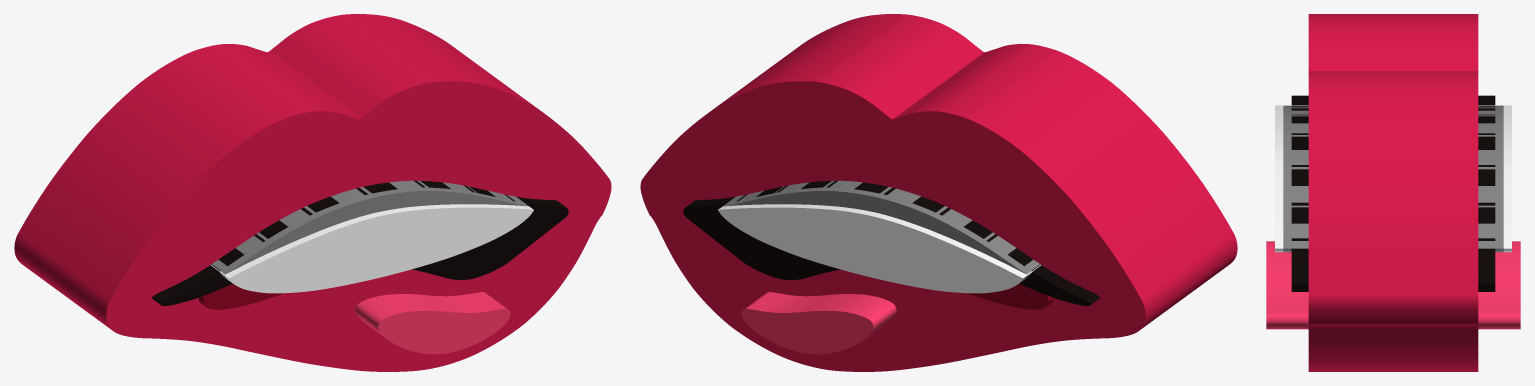
File: U+1FAE6.obj
3 views of the same model, side by side, from view 1: azimuth 30°, elevation 25°; view 2: azimuth 150°, elevation 25°; view 3: azimuth 270°, elevation 25° (orthographic). The views are drawn at different scales.
Parts seen in each view (by area): view 1: U+1FAE6_layer00_obj00, U+1FAE6_layer04_obj00, U+1FAE6_layer05_obj00, U+1FAE6_layer02_obj00, U+1FAE6_layer03_obj00, U+1FAE6_layer01_obj00; view 2: U+1FAE6_layer00_obj00, U+1FAE6_layer04_obj00, U+1FAE6_layer05_obj00, U+1FAE6_layer02_obj00, U+1FAE6_layer03_obj00, U+1FAE6_layer01_obj00; view 3: U+1FAE6_layer00_obj00, U+1FAE6_layer03_obj00, U+1FAE6_layer05_obj00, U+1FAE6_layer02_obj00, U+1FAE6_layer04_obj00.
Boxes of the visible parts, x1,y1,x2,y2 form: U+1FAE6_layer00_obj00: (14, 14, 611, 371); U+1FAE6_layer04_obj00: (211, 204, 533, 293); U+1FAE6_layer05_obj00: (355, 292, 510, 354); U+1FAE6_layer02_obj00: (152, 180, 568, 305); U+1FAE6_layer03_obj00: (212, 180, 528, 278); U+1FAE6_layer01_obj00: (198, 283, 284, 309); U+1FAE6_layer00_obj00: (640, 14, 1237, 371); U+1FAE6_layer04_obj00: (718, 204, 1040, 293); U+1FAE6_layer05_obj00: (741, 292, 896, 354); U+1FAE6_layer02_obj00: (683, 180, 1099, 305); U+1FAE6_layer03_obj00: (723, 180, 1039, 278); U+1FAE6_layer01_obj00: (967, 283, 1053, 309); U+1FAE6_layer00_obj00: (1308, 14, 1478, 371); U+1FAE6_layer03_obj00: (1283, 105, 1503, 252); U+1FAE6_layer05_obj00: (1266, 241, 1520, 329); U+1FAE6_layer02_obj00: (1291, 95, 1495, 291); U+1FAE6_layer04_obj00: (1275, 105, 1511, 252).
Bounding box in the file's own units: 0.3173 × 0.1723 × 0.15.
